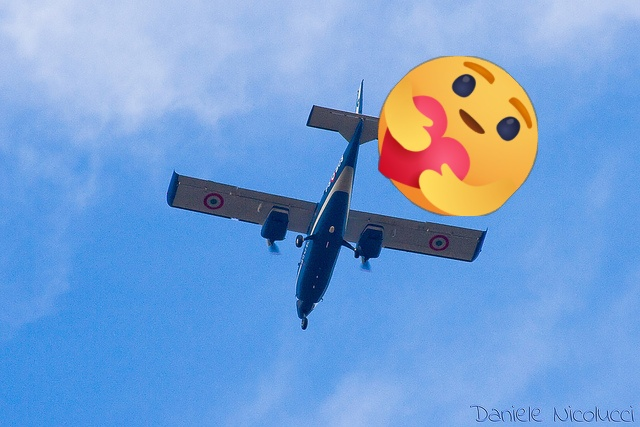care: (378, 56, 538, 216)
